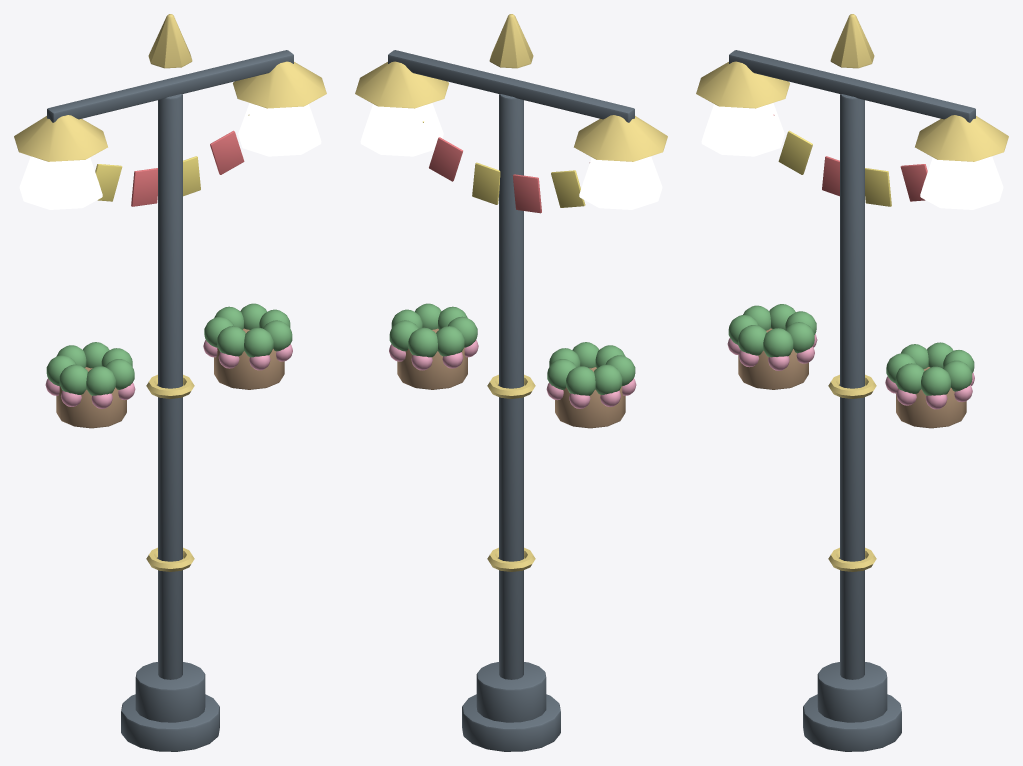
Rendered from th33_parklaterne.glb.
The picture shows the model from 3 angles, left to right: view 1: azimuth 30°, elevation 25°; view 2: azimuth 150°, elevation 25°; view 3: azimuth 330°, elevation 25°; orthographic projection.
Visible parts, largest first — view 1: Cylinder.002, Cube, Cone.002, Cone, Cylinder.001, Cylinder, Cone.001, Cone.003, Cylinder.003, Cylinder.004, Cone.004, Cube.007 (+11 smaller); view 2: Cylinder.002, Cube, Cone, Cylinder.001, Cone.002, Cylinder, Cone.001, Cone.003, Cylinder.003, Cylinder.004, Cone.004, Cube.005 (+11 smaller); view 3: Cylinder.002, Cube, Cone, Cone.002, Cylinder.001, Cylinder, Cone.003, Cone.001, Cylinder.004, Cylinder.003, Cone.004, Cube.004 (+11 smaller).
Part boxes in pixels (bbox=[...]): Cylinder.002: bbox=[158, 94, 182, 679]; Cube: bbox=[47, 50, 293, 122]; Cone.002: bbox=[238, 103, 321, 156]; Cone: bbox=[19, 156, 102, 209]; Cylinder.001: bbox=[135, 662, 205, 722]; Cylinder: bbox=[121, 694, 219, 751]; Cone.001: bbox=[14, 115, 107, 161]; Cone.003: bbox=[233, 61, 326, 108]; Cylinder.003: bbox=[56, 367, 126, 428]; Cylinder.004: bbox=[214, 328, 284, 389]; Cone.004: bbox=[148, 14, 192, 68]; Cube.007: bbox=[210, 130, 244, 174]; Cylinder.002: bbox=[499, 94, 523, 679]; Cube: bbox=[388, 50, 634, 122]; Cone: bbox=[579, 156, 662, 209]; Cylinder.001: bbox=[476, 662, 546, 722]; Cone.002: bbox=[360, 103, 443, 156]; Cylinder: bbox=[462, 694, 560, 751]; Cone.001: bbox=[574, 115, 667, 161]; Cone.003: bbox=[355, 61, 448, 108]; Cylinder.003: bbox=[555, 367, 625, 428]; Cylinder.004: bbox=[397, 328, 467, 389]; Cone.004: bbox=[489, 14, 533, 68]; Cube.005: bbox=[512, 174, 541, 213]; Cylinder.002: bbox=[840, 94, 864, 679]; Cube: bbox=[729, 50, 975, 122]; Cone: bbox=[701, 103, 784, 156]; Cone.002: bbox=[920, 156, 1003, 209]; Cylinder.001: bbox=[817, 662, 887, 722]; Cylinder: bbox=[803, 694, 901, 751]; Cone.003: bbox=[915, 115, 1008, 161]; Cone.001: bbox=[696, 61, 789, 108]; Cylinder.004: bbox=[896, 367, 966, 428]; Cylinder.003: bbox=[738, 328, 808, 389]; Cone.004: bbox=[830, 14, 874, 68]; Cube.004: bbox=[778, 130, 812, 174].
Bounding box in the file's own units: 2.38 × 5.39 × 0.68.
